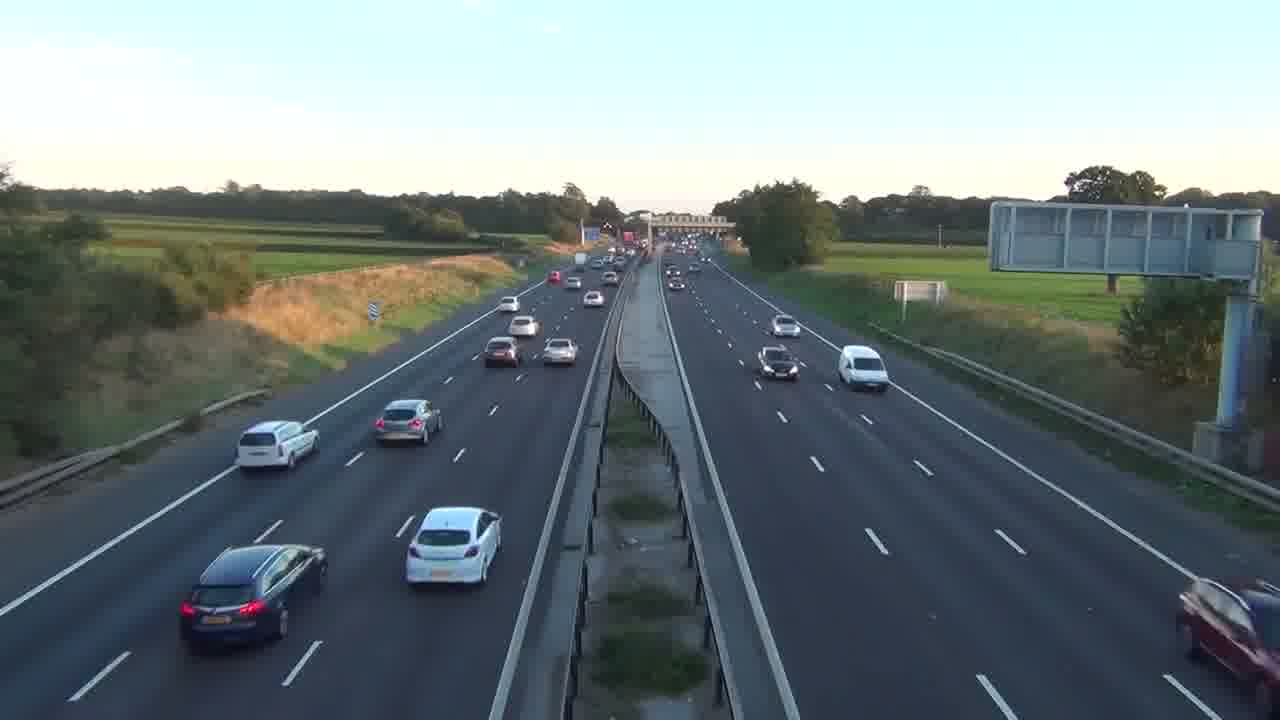car: (178, 542, 328, 654), (403, 505, 502, 589), (236, 419, 320, 471), (371, 398, 445, 446), (836, 344, 890, 392), (756, 344, 805, 382), (482, 335, 519, 368), (542, 337, 579, 367), (770, 313, 802, 338), (582, 288, 606, 308)
